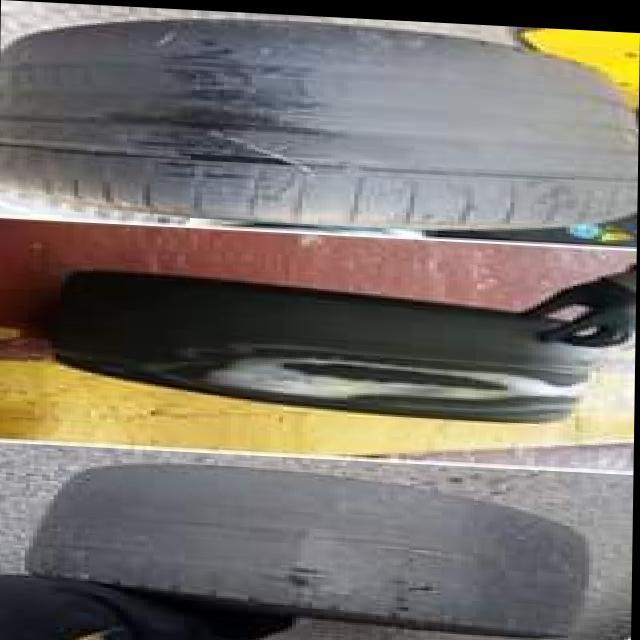Flat spots: (14, 60, 600, 188), (24, 474, 551, 603)
